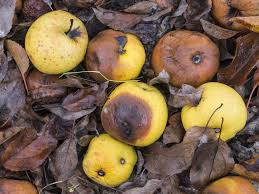damaged_apple: (101, 81, 170, 150), (179, 83, 249, 143), (27, 12, 89, 76), (150, 28, 218, 85), (81, 132, 144, 187), (87, 26, 146, 81), (197, 173, 257, 192)
